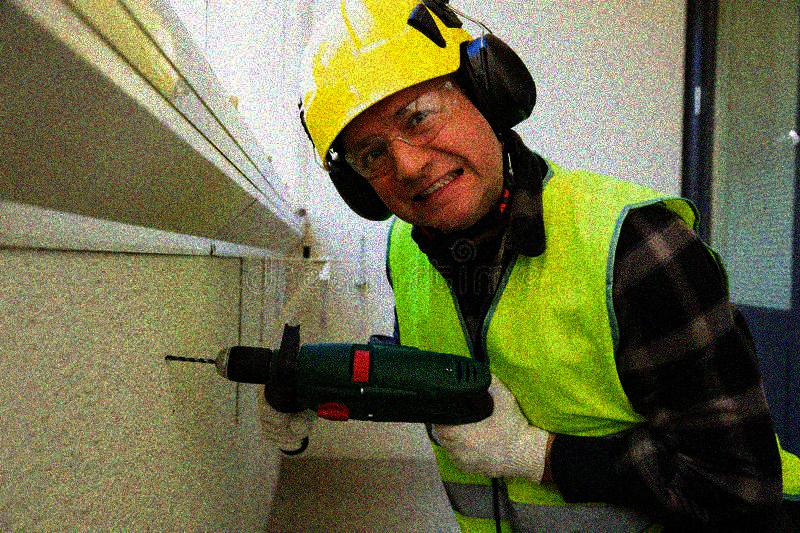helmet: (297, 1, 513, 230)
